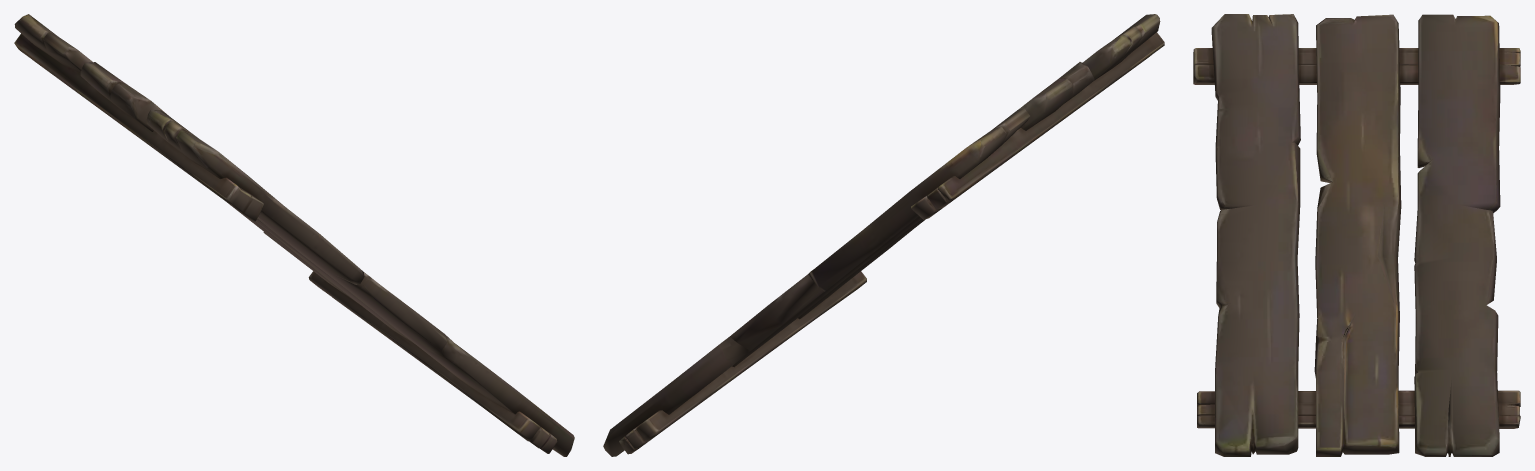
The model's file is marsh_plank_bridge.glb.
3 views of the same model, side by side, from view 1: azimuth 30°, elevation 25°; view 2: azimuth 150°, elevation 25°; view 3: azimuth 270°, elevation 25° (orthographic). The views are drawn at different scales.
Visible parts, largest first — view 1: tripo_node_190aef3c-429a-4cb0-b2d1-54816aed90ee; view 2: tripo_node_190aef3c-429a-4cb0-b2d1-54816aed90ee; view 3: tripo_node_190aef3c-429a-4cb0-b2d1-54816aed90ee.
Boxes of the visible parts, box(x1,y1,x2,y2) form: tripo_node_190aef3c-429a-4cb0-b2d1-54816aed90ee: box(14, 14, 574, 456); tripo_node_190aef3c-429a-4cb0-b2d1-54816aed90ee: box(603, 14, 1164, 456); tripo_node_190aef3c-429a-4cb0-b2d1-54816aed90ee: box(1193, 14, 1520, 456).
Size of the model in its own units: 0.45 by 0.45 by 0.4394.
Materials: 1 (1 with a texture image).
